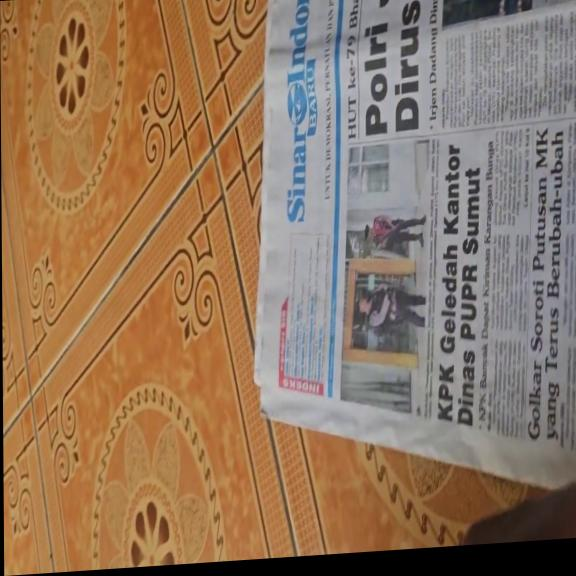Kertas: (265, 0, 576, 400)
